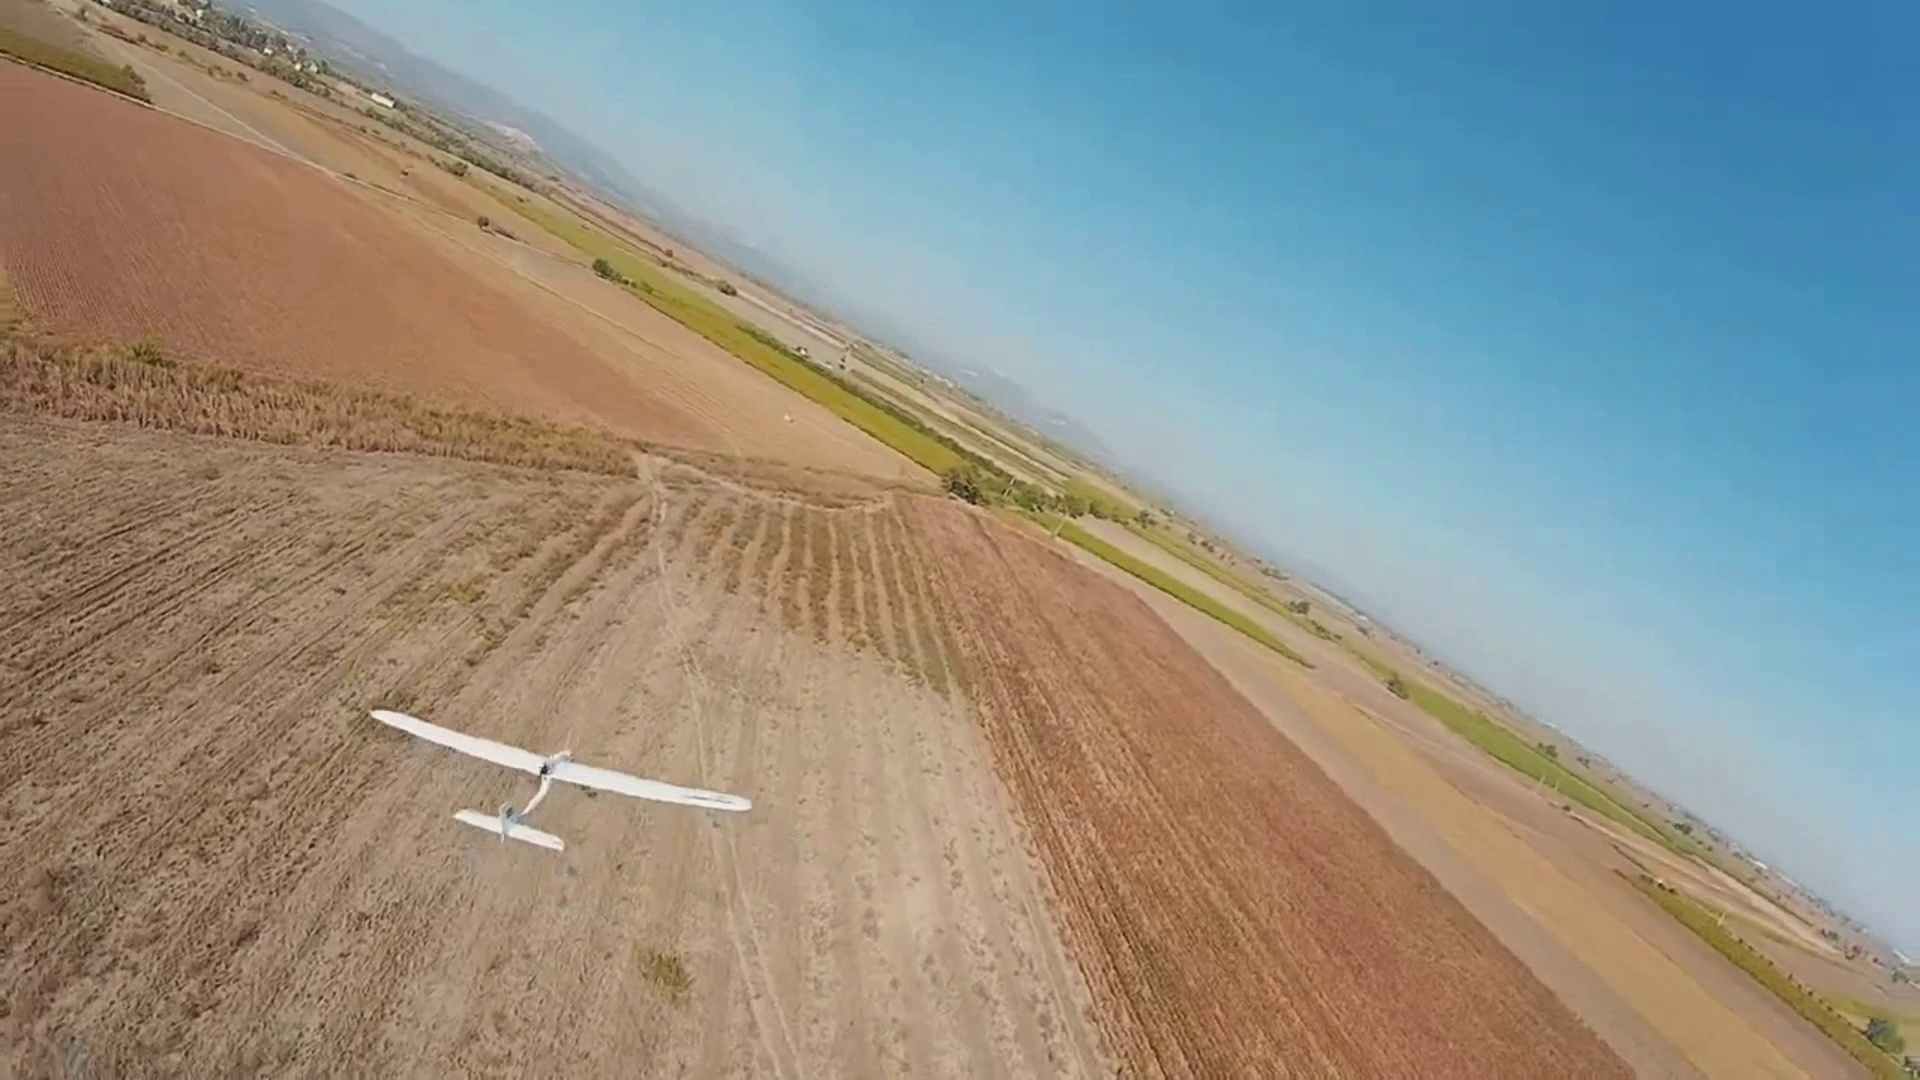airplane: (367, 704, 753, 861)
